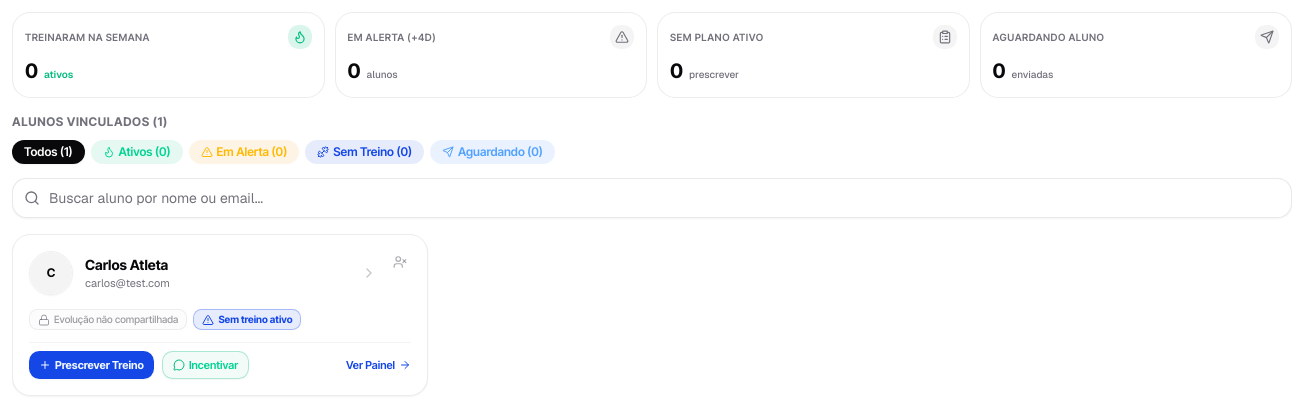
it: Coach ↔ Athlete Foundation (Task 6.1 Frontend) › 2. AthletesList › renderiza lista de alunos ativos com dados e botão de encerramento
Expected: the text "Carlos Atleta" is shown, left=85, top=255, right=168, bottom=275
Expected: the text "carlos@test.com" is shown, left=85, top=276, right=170, bottom=290
Note: Clicar em Encerrar exibe confirmação inline
Click the button named "encerrar" at (400, 262), box left=389, top=251, right=411, bottom=273
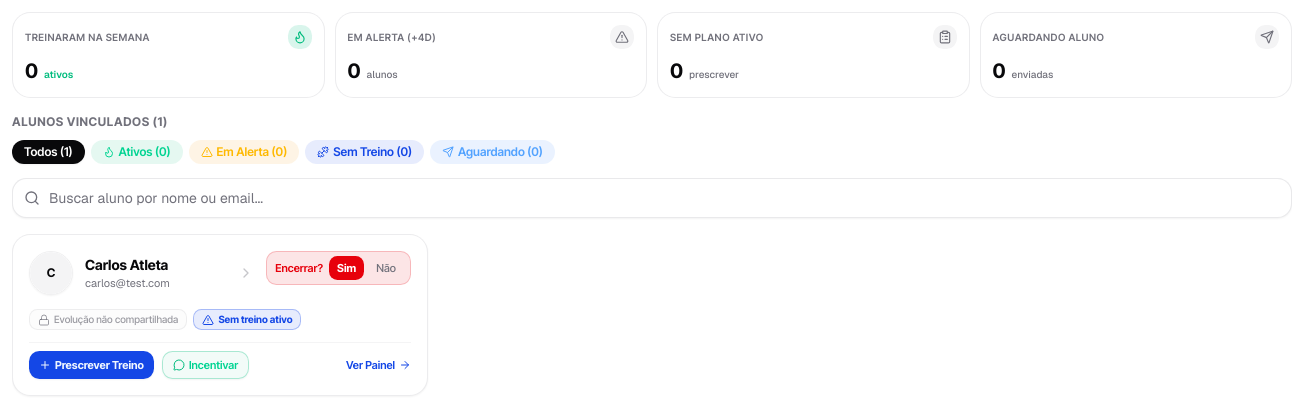
Now the text "Encerrar?" is shown, box left=275, top=260, right=323, bottom=276
Now the button "Sim" is shown, box left=329, top=256, right=364, bottom=280
Now the button "Não" is shown, box left=370, top=256, right=402, bottom=280
